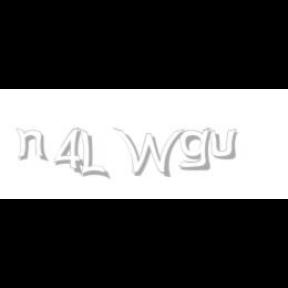4: (54, 128, 84, 174)
L: (79, 128, 107, 180)
W: (112, 128, 184, 178)
g: (179, 128, 216, 171)
n: (15, 128, 49, 162)
u: (207, 128, 242, 160)
